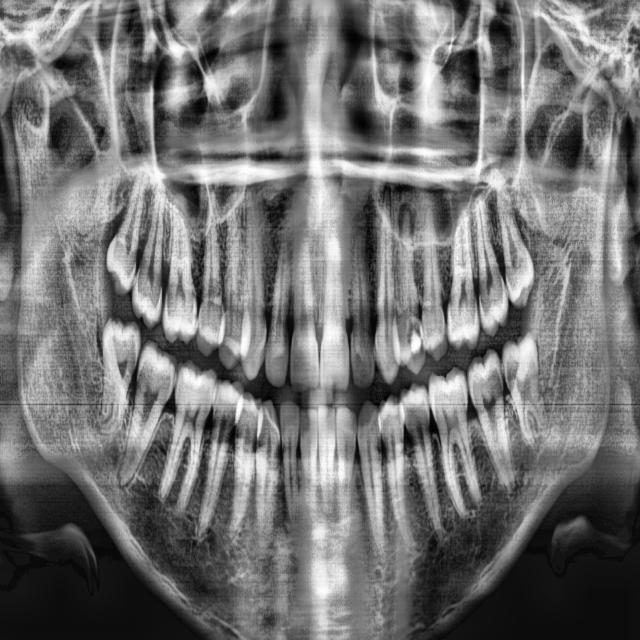karies: (357, 400, 379, 436), (408, 324, 423, 365)
